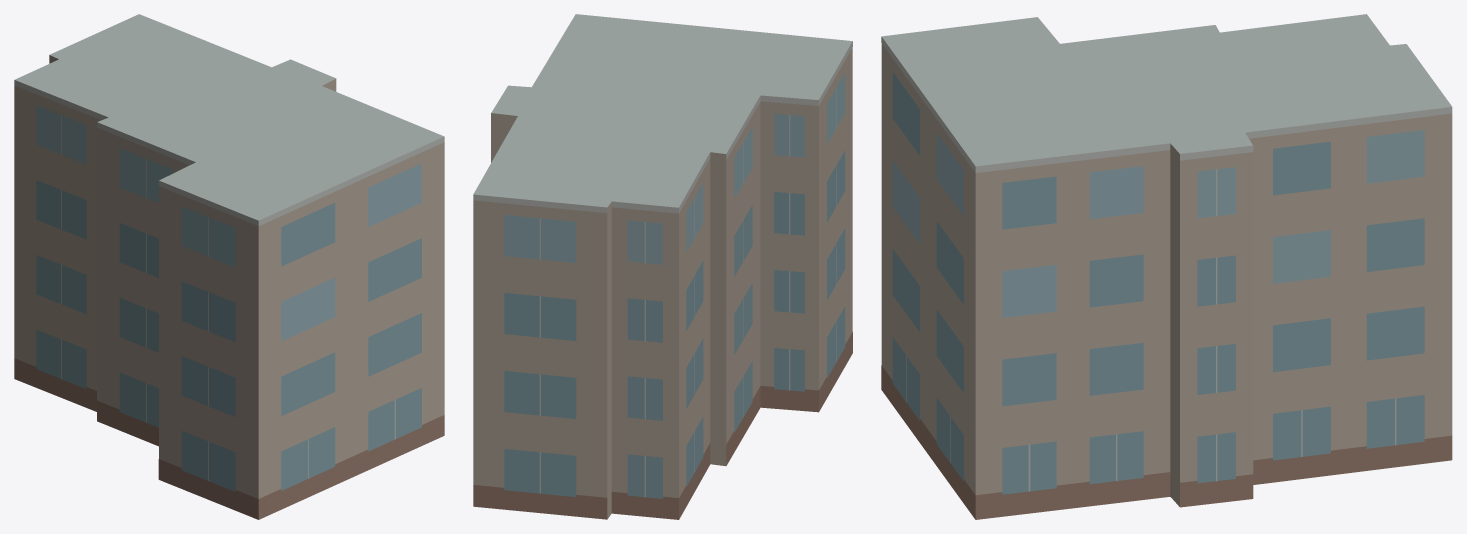
The model's file is survey-upis-32953864.glb.
The picture shows the model from 3 angles, left to right: view 1: azimuth 30°, elevation 25°; view 2: azimuth 150°, elevation 25°; view 3: azimuth 270°, elevation 25°; orthographic projection. The views are drawn at different scales.
Visible parts, largest first — view 1: survey-upis-32953864.tmp; view 2: survey-upis-32953864.tmp; view 3: survey-upis-32953864.tmp.
Part boxes in pixels (x1,y1,x2,y2): survey-upis-32953864.tmp: [14, 14, 444, 519]; survey-upis-32953864.tmp: [473, 14, 852, 519]; survey-upis-32953864.tmp: [881, 14, 1452, 519].
Bounding box in the file's own units: 12.04 × 13 × 19.04.
